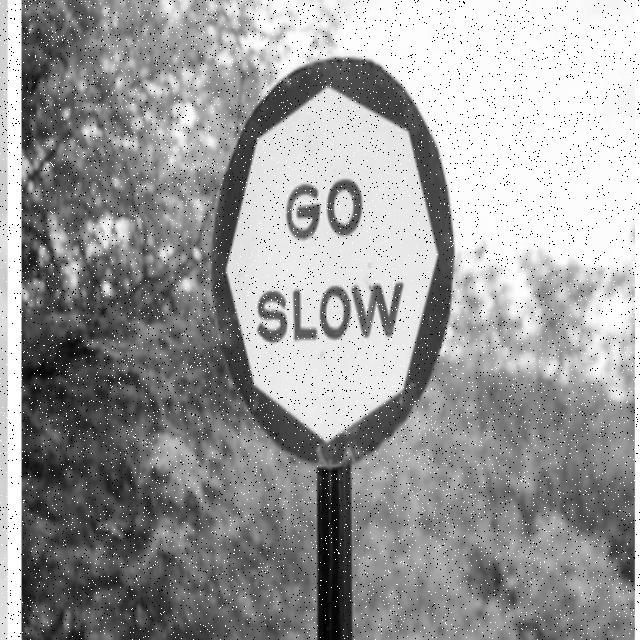go_slow: (210, 55, 455, 477)
